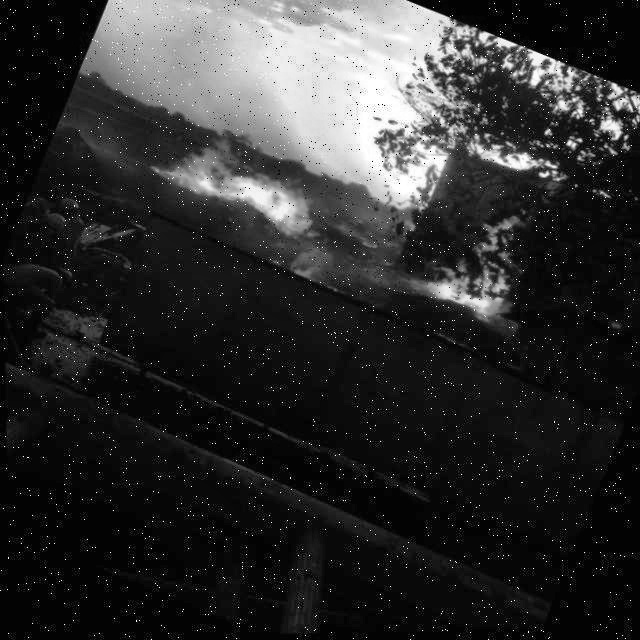Fire: (143, 114, 335, 249), (413, 190, 545, 333)
